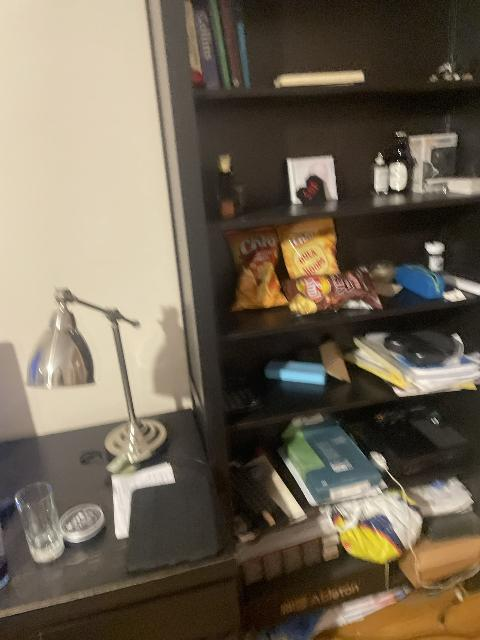Chio Cascaval 125g: (225, 225, 290, 312)
Chio Hula Hoops Cheese 70g: (279, 219, 340, 281)
Lays Beef Grilled Ribs 125g: (280, 266, 382, 315)
